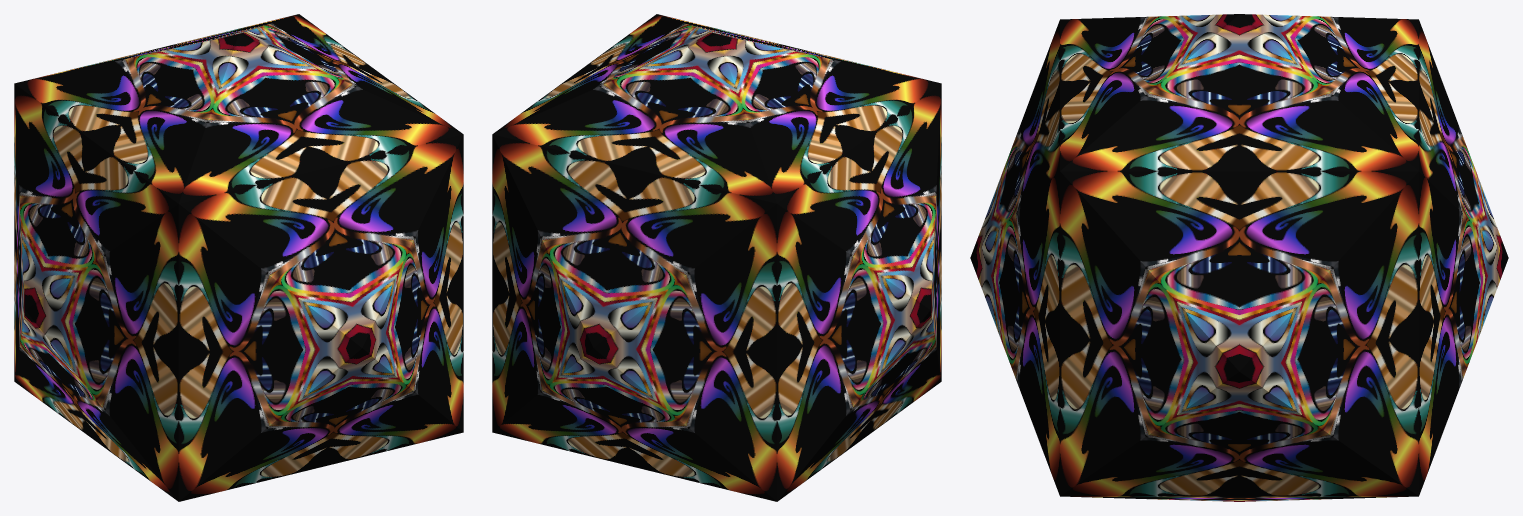
Rendered from TetrakisHexahedron12.obj.
3 views of the same model, side by side, from view 1: azimuth 30°, elevation 25°; view 2: azimuth 150°, elevation 25°; view 3: azimuth 270°, elevation 25° (orthographic). The views are drawn at different scales.
Size of the model in its own units: 3.18 by 3.18 by 3.18.
Materials: 1 (1 with a texture image).
